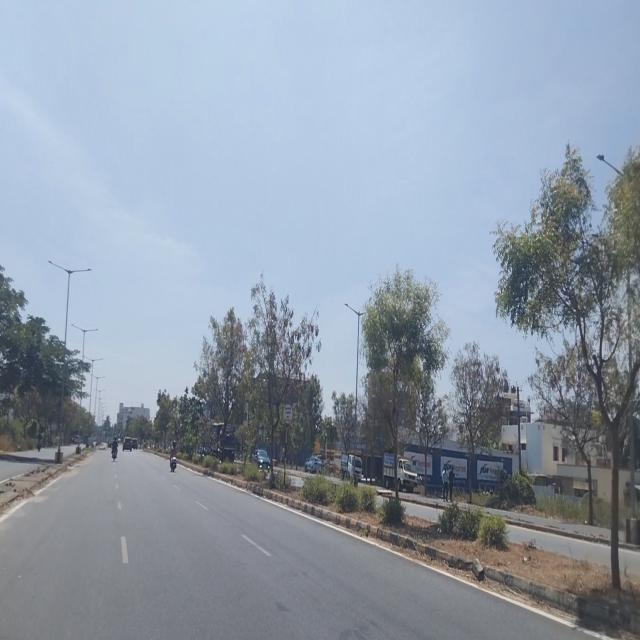bien_cam: (283, 403, 293, 425)
